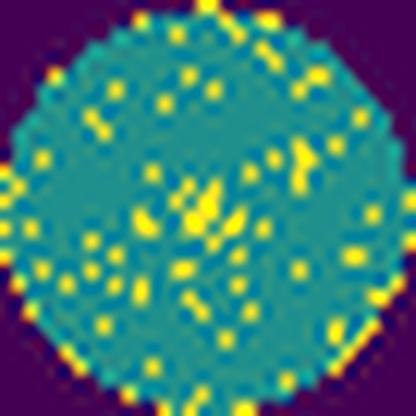Center: (177, 174, 247, 254)
